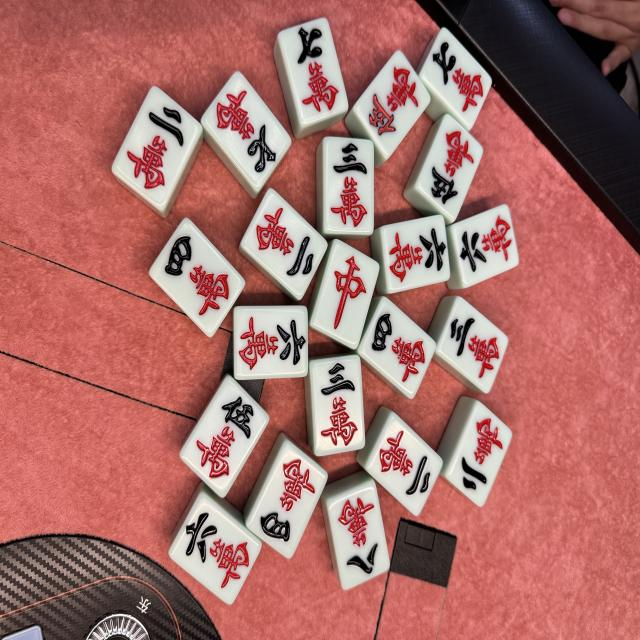hdr: (312, 239, 381, 350)
sc2: (111, 85, 202, 213), (240, 189, 328, 300), (365, 412, 443, 516), (448, 401, 512, 508)
sc3: (434, 296, 509, 394), (311, 355, 366, 456), (322, 136, 376, 235)
sc4: (149, 217, 246, 338), (246, 439, 328, 560), (358, 296, 436, 399)
sc5: (182, 374, 269, 498), (353, 50, 432, 160), (414, 112, 484, 220)
sc6: (167, 492, 261, 605), (453, 204, 519, 287), (381, 214, 450, 293), (234, 305, 308, 378)
sc7: (201, 71, 291, 189), (278, 17, 348, 126), (419, 27, 493, 127)
sc8: (328, 480, 390, 590)
